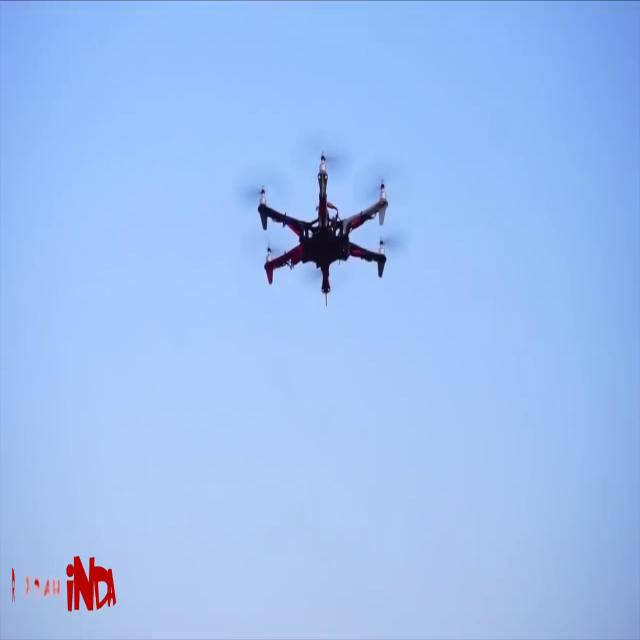drone: (243, 156, 417, 295)
